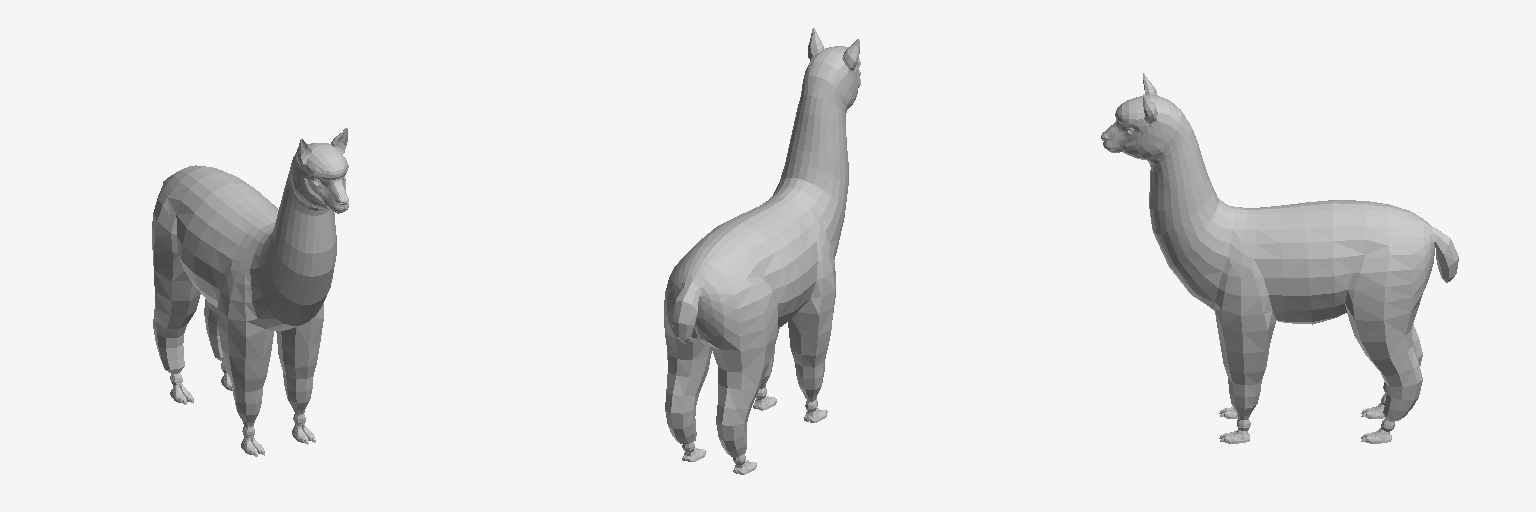
Rendered from alpaca_alpaca_triangulated.obj.
3 views of the same model, side by side, from view 1: azimuth 30°, elevation 25°; view 2: azimuth 150°, elevation 25°; view 3: azimuth 270°, elevation 25° (orthographic).
Bounding box in the file's own units: 0.4826 × 1.59 × 1.49.